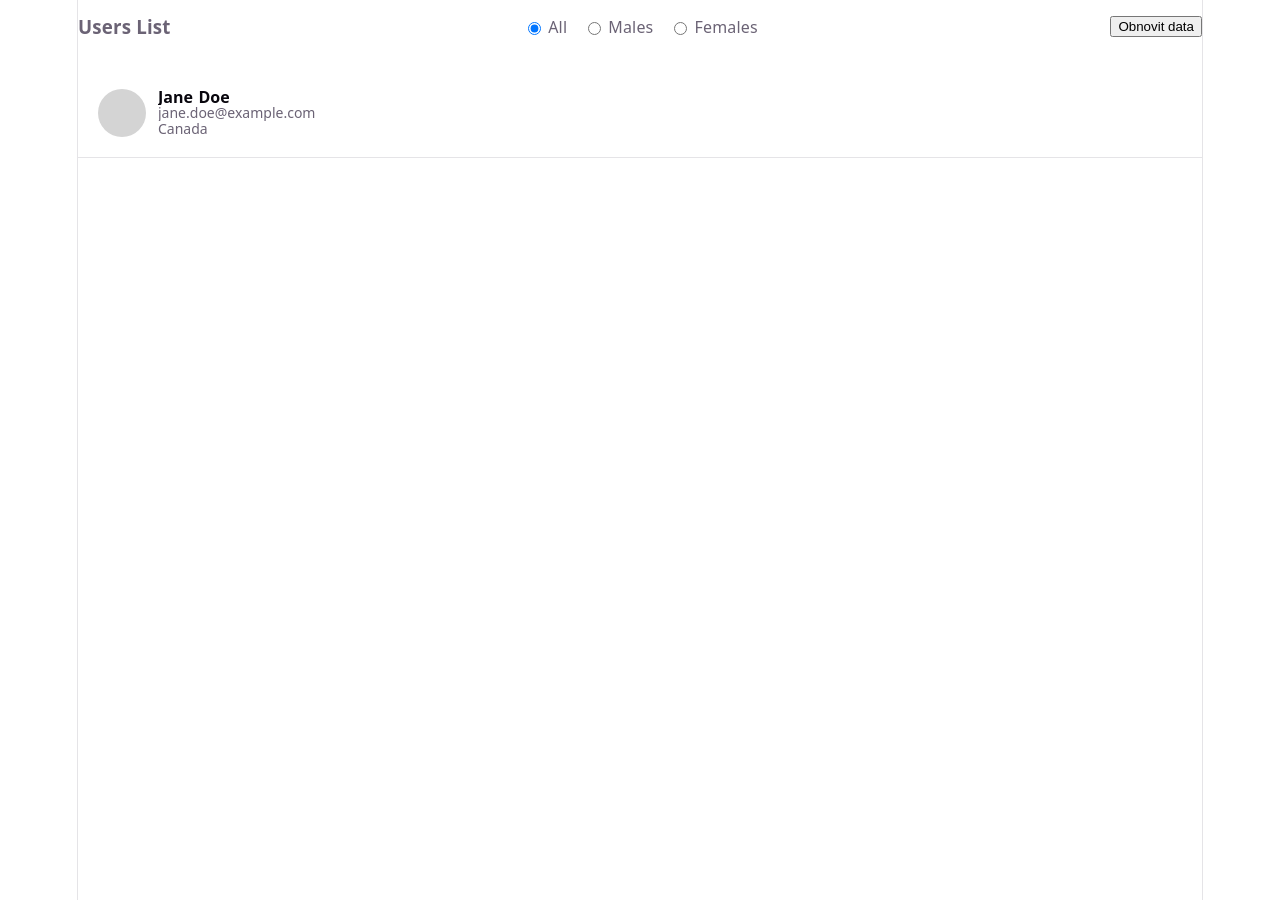
Test case: UsersList › opens a popup with all user details after the user is clicked
This screenshot has width=1280, height=900.
Click the button "Jane Doe jane.doe@example.com Canada".
click(122, 113)  # box top-left (98, 89), bottom-right (1182, 137)
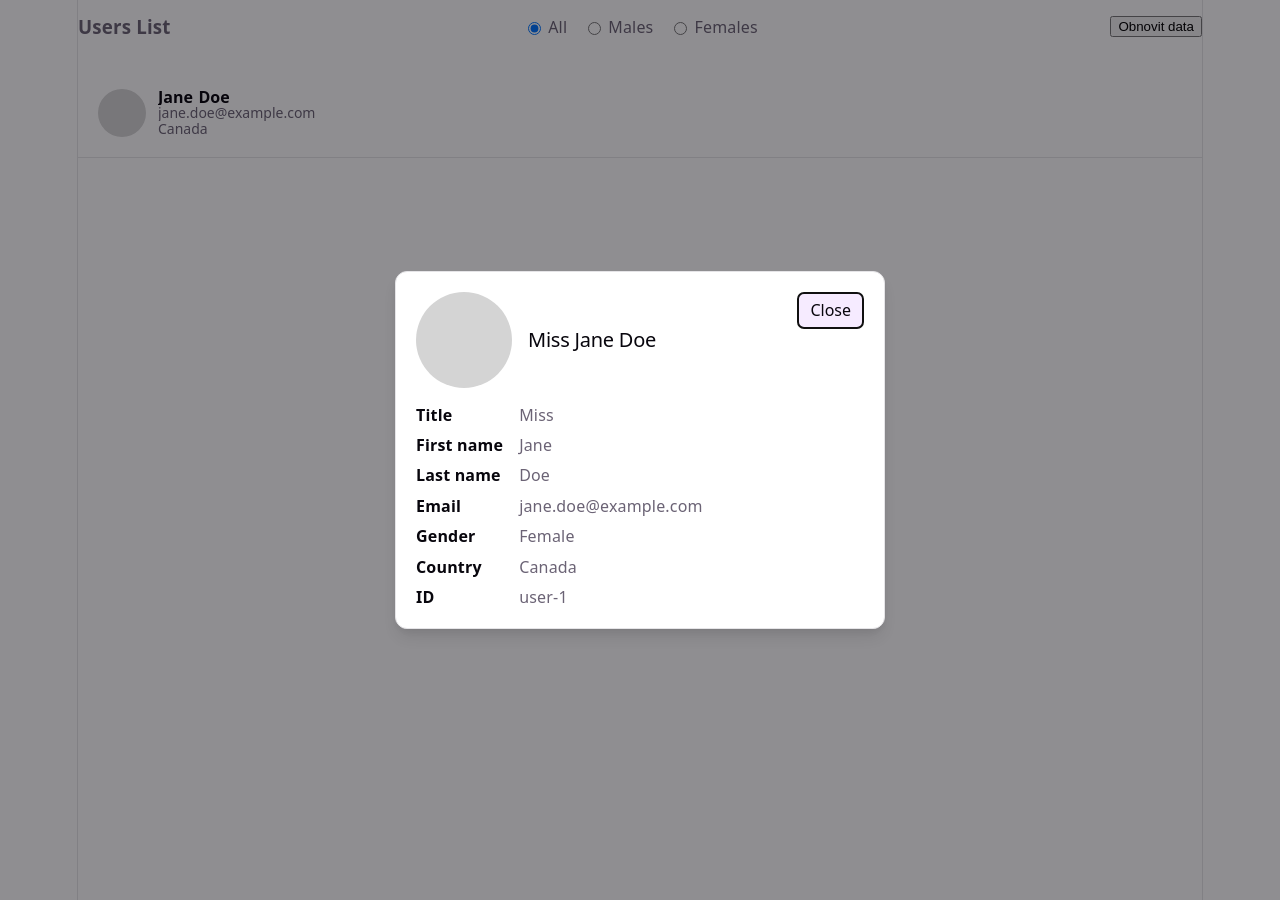
Result: the text "jane.doe@example.com" is shown at top-left (519, 495), bottom-right (703, 517)
Result: the text "Female" is shown at top-left (519, 525), bottom-right (575, 547)
Result: the text "Canada" is shown at top-left (519, 556), bottom-right (577, 578)
Click the button "Close".
click(831, 310)  # box top-left (797, 292), bottom-right (864, 329)
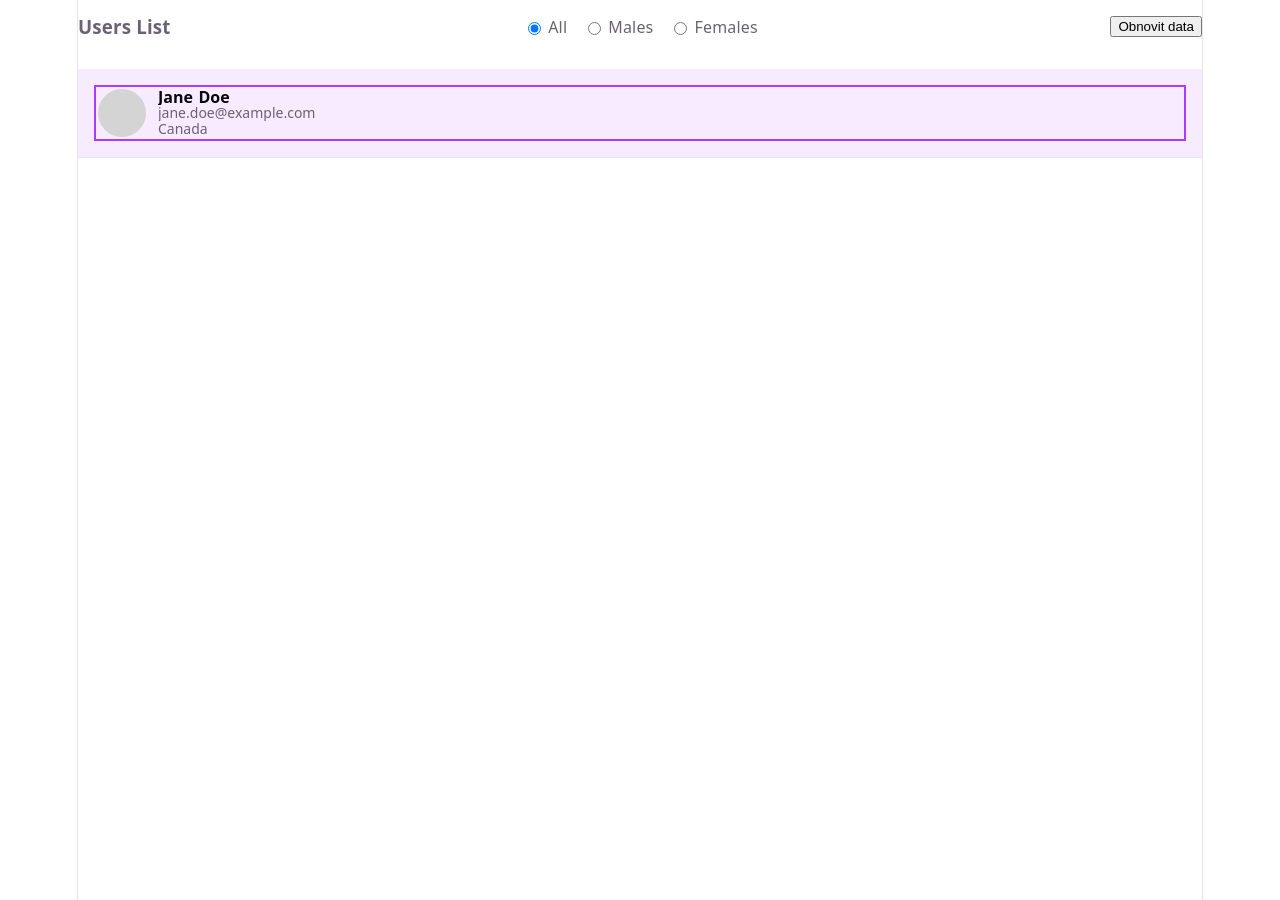
Result: the dialog is gone
